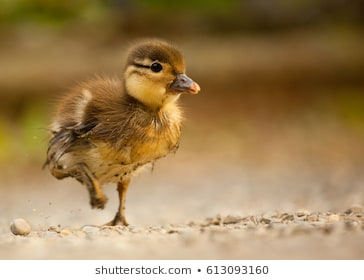duck: (23, 36, 207, 232)
